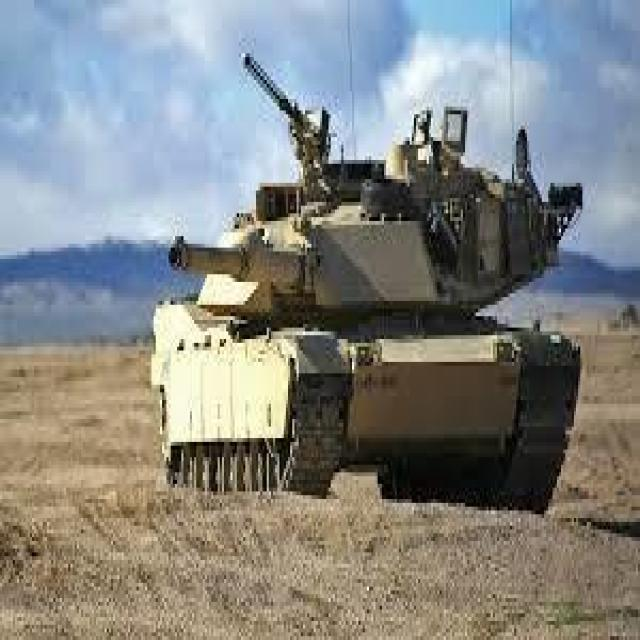Tanks: (147, 95, 587, 518)
